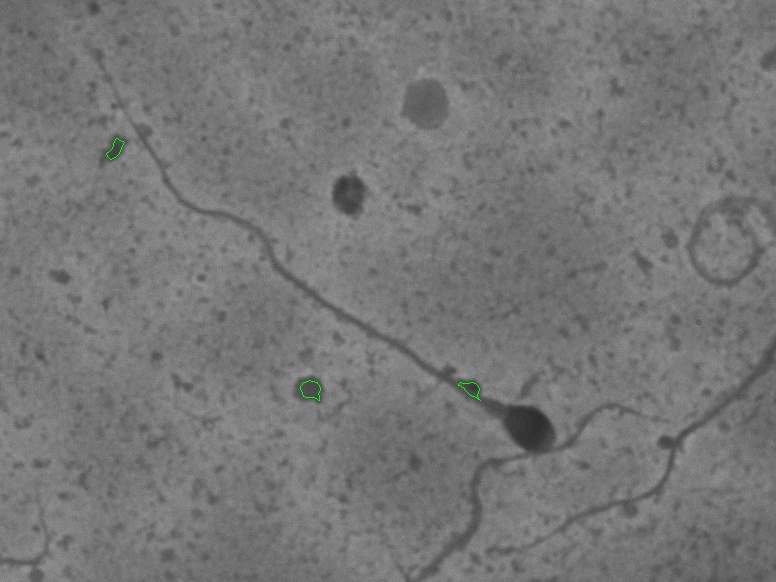Normal: (93, 46, 574, 470)
